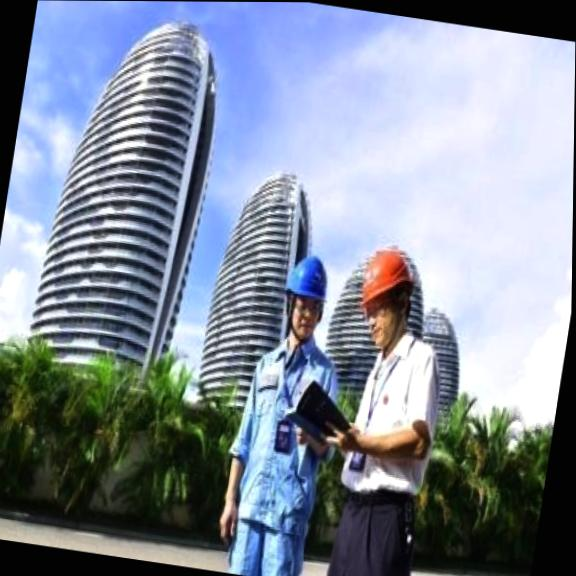no_safety_vest: (218, 328, 344, 543), (334, 340, 454, 502)
